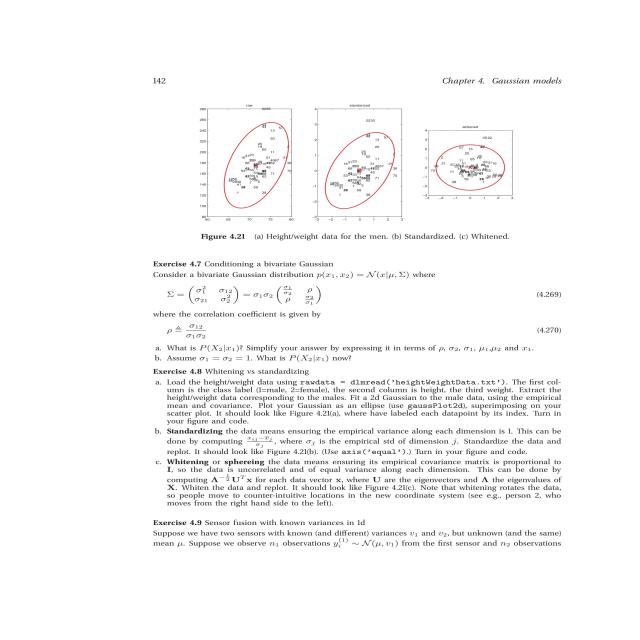diagram: (160, 94, 534, 252)
